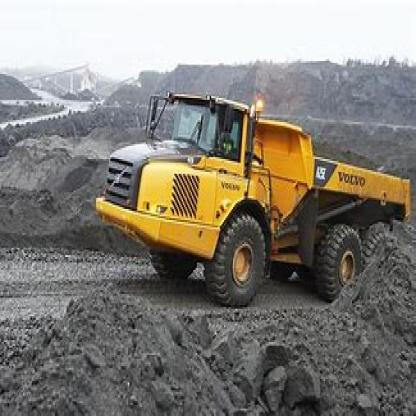dump_truck: (86, 87, 411, 307)
